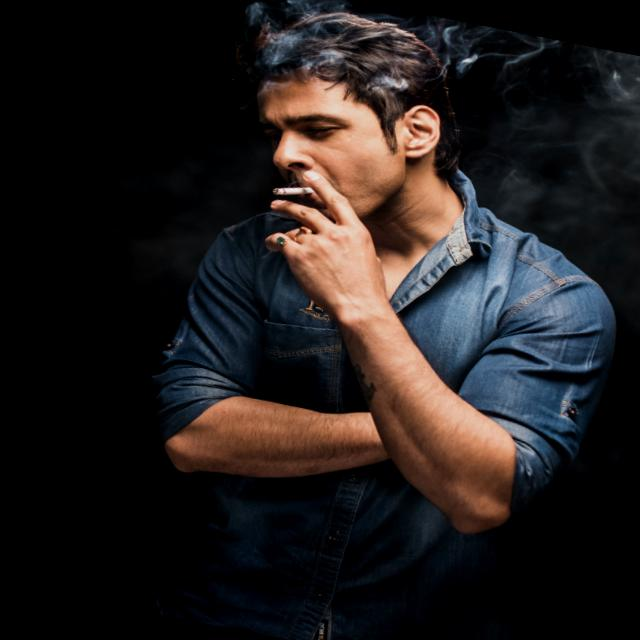cigarette: (258, 157, 334, 207)
